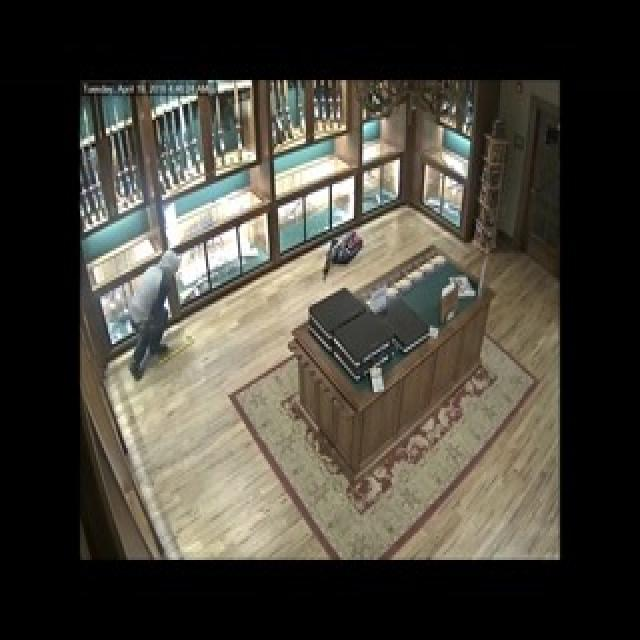thief: (126, 248, 187, 370)
